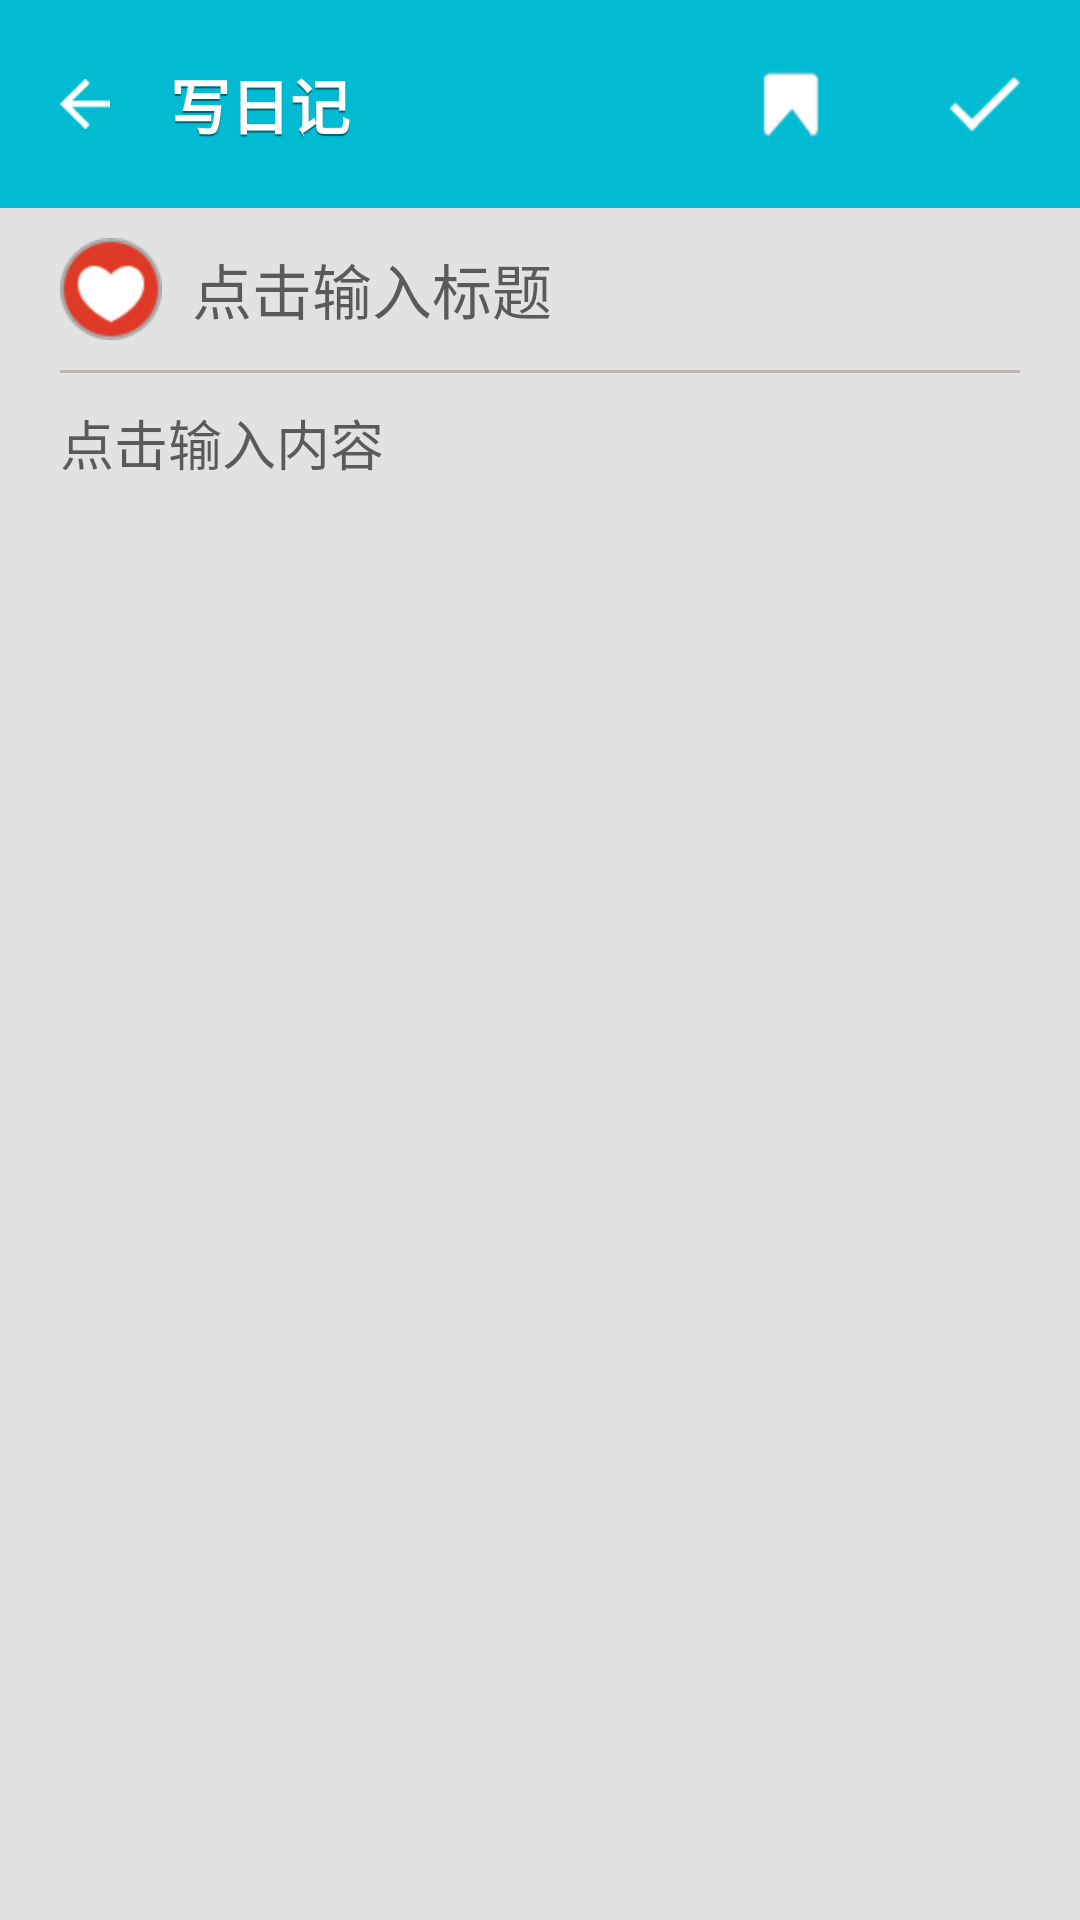

Named icons in this screenshot (1080px×1920px) and their bounding boxes, BBox(x1, y1, x2, y2):
title ok: BBox(949, 77, 1020, 132)
